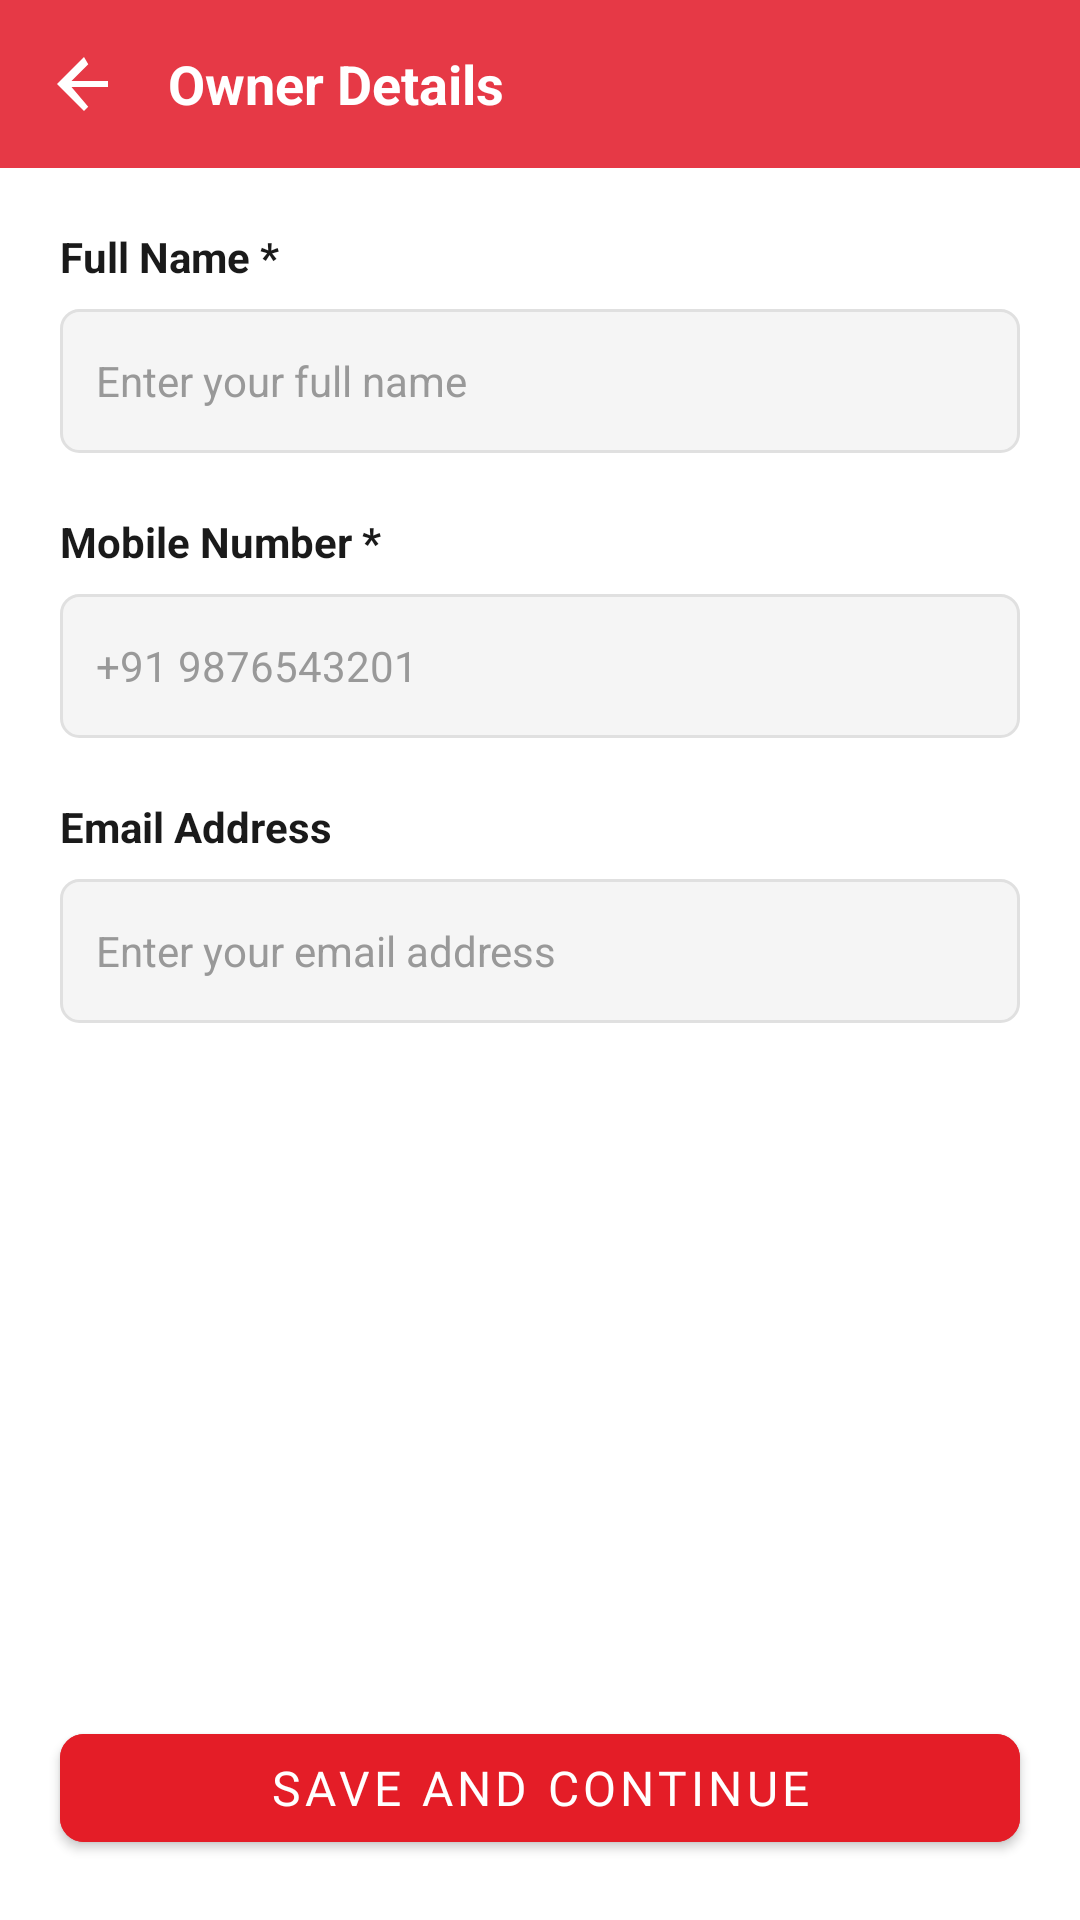

Named icons in this screenshot (1080*1920) and their centers, point (x, y):
Back: point (82, 84)
